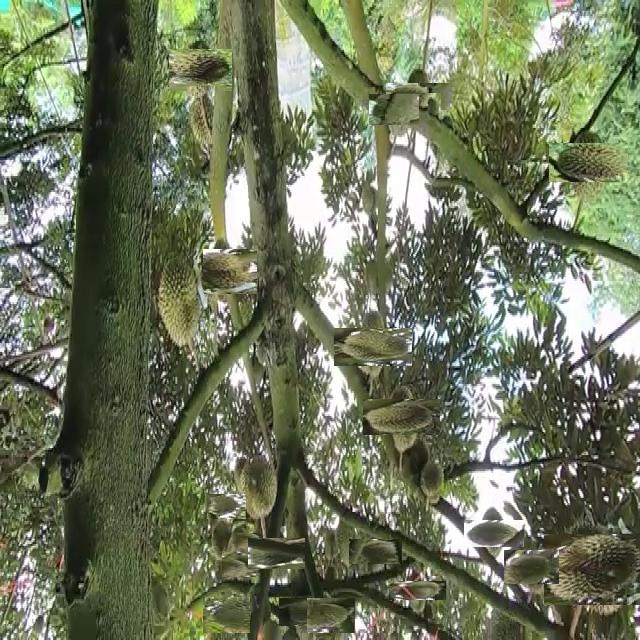durian: (551, 526, 638, 612), (156, 245, 203, 352), (189, 241, 249, 302), (558, 133, 618, 192), (344, 317, 402, 376), (373, 388, 431, 446), (237, 454, 280, 521), (175, 43, 227, 97), (187, 86, 222, 160), (396, 73, 442, 121), (376, 87, 422, 133), (509, 545, 554, 589), (254, 531, 299, 575), (472, 512, 516, 556), (205, 594, 248, 636), (286, 592, 328, 634), (311, 595, 352, 636), (355, 532, 395, 571), (333, 516, 360, 572), (398, 571, 436, 610), (208, 512, 237, 562), (419, 455, 446, 507), (219, 526, 255, 561), (226, 547, 261, 582), (210, 490, 243, 522), (419, 92, 441, 140), (360, 178, 378, 219)
